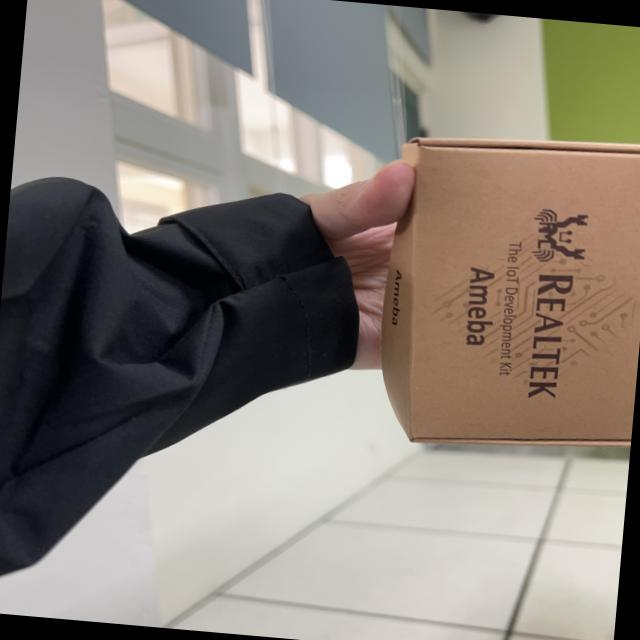box: (353, 111, 640, 489)
